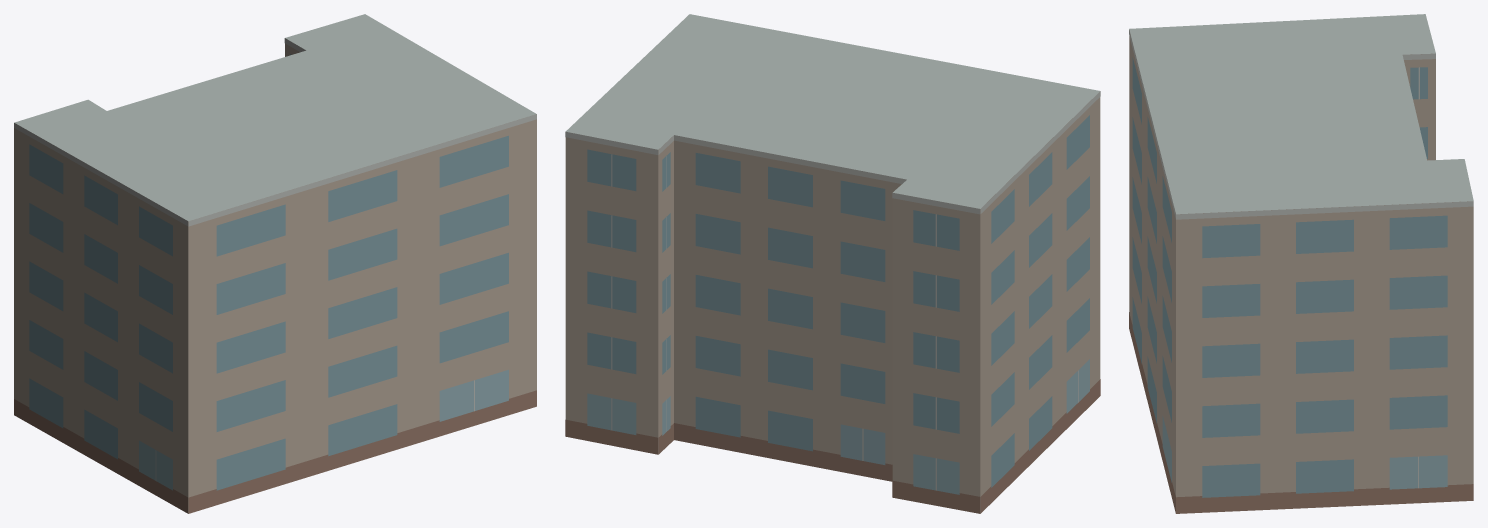
The model's file is survey-upis-32967625.glb.
The picture shows the model from 3 angles, left to right: view 1: azimuth 30°, elevation 25°; view 2: azimuth 150°, elevation 25°; view 3: azimuth 270°, elevation 25°; orthographic projection. The views are drawn at different scales.
Visible parts, largest first — view 1: survey-upis-32967625.tmp; view 2: survey-upis-32967625.tmp; view 3: survey-upis-32967625.tmp.
Boxes of the visible parts, x1=… form: survey-upis-32967625.tmp: x1=14, y1=14, x2=536, y2=513; survey-upis-32967625.tmp: x1=565, y1=14, x2=1100, y2=513; survey-upis-32967625.tmp: x1=1129, y1=14, x2=1473, y2=513.
Bounding box in the file's own units: 19.37 × 13.5 × 14.09.
